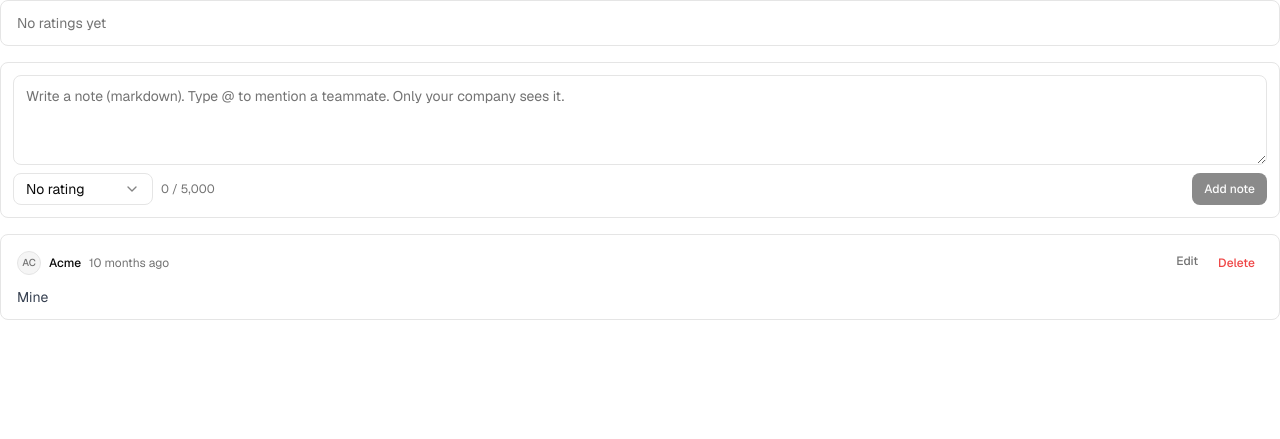
Test case: NotesPanel (PLT-054) › edits a note in place
Click the button "Edit": (1187, 261) [1168,247,1206,275]
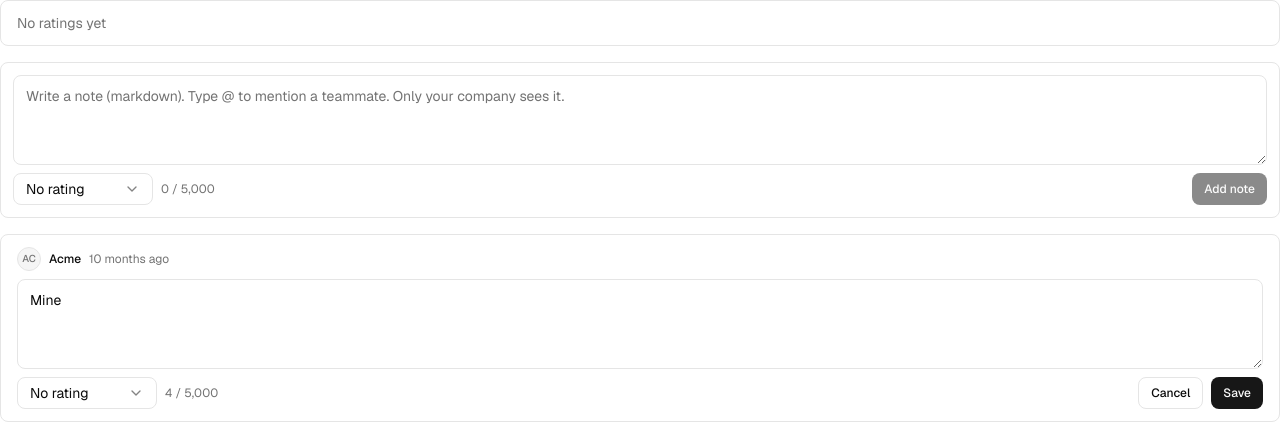
Replace the text in the text box named "Edit note" with "Edited": (640, 324) [17,279,1263,369]
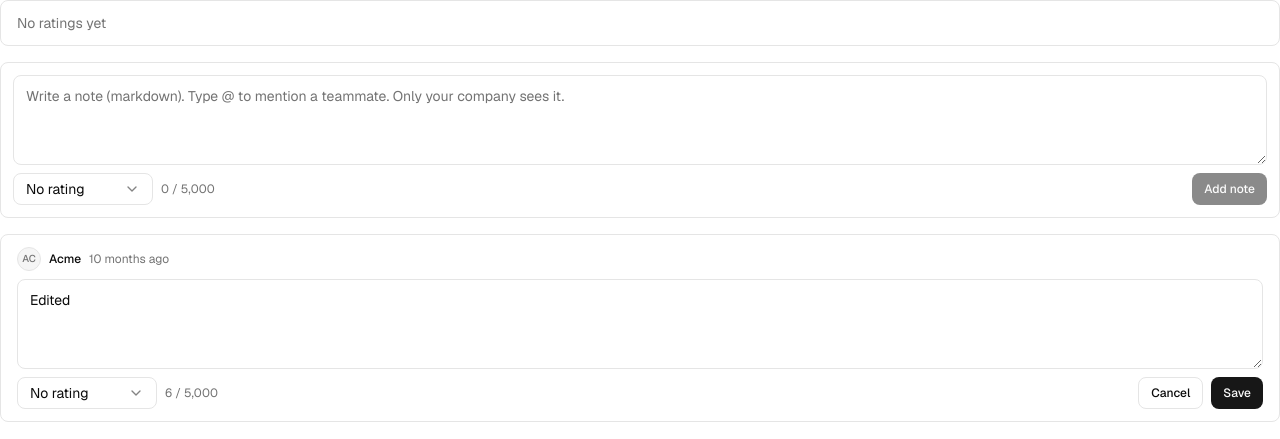
Click the button "Save": (1237, 393) [1211,377,1263,409]
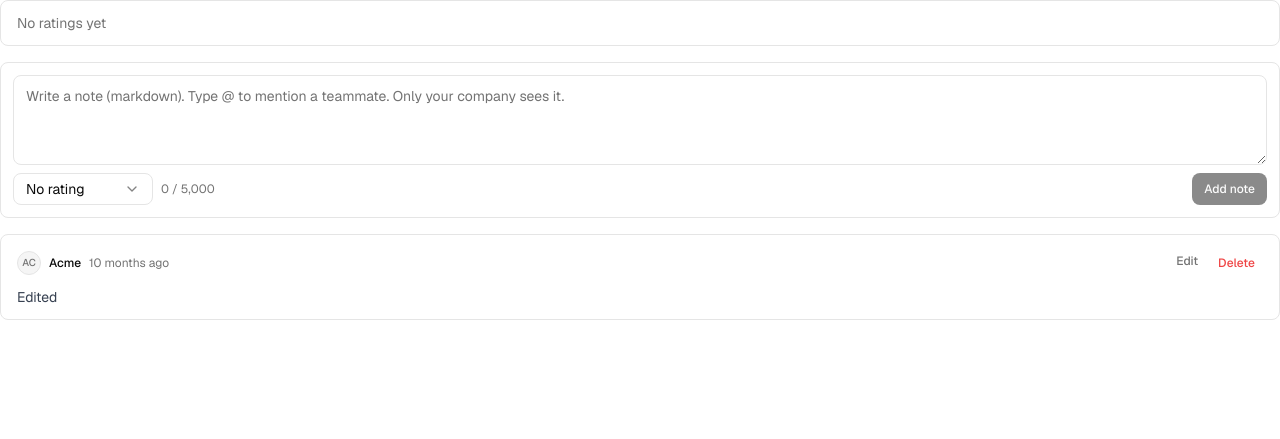
Check: the text "Edited" is shown, box [17,288,57,306]
